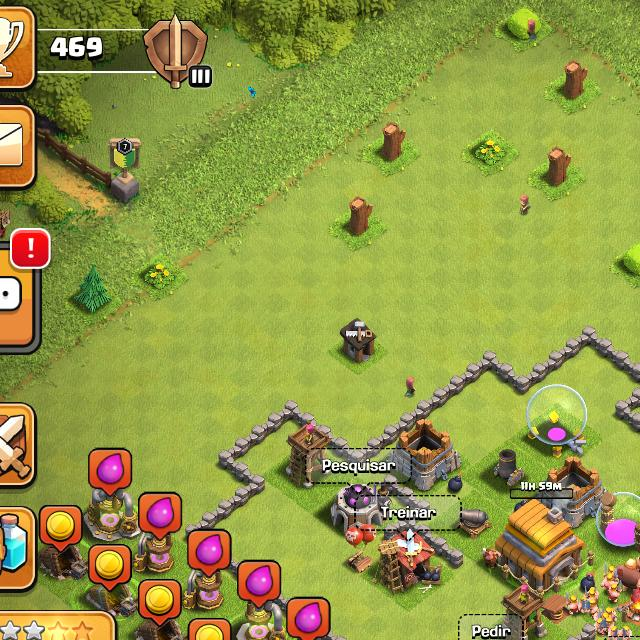Arqueira: (288, 423, 332, 490), (502, 583, 544, 640)
Canhao: (458, 505, 491, 540)
FullCoin: (38, 505, 84, 553), (138, 579, 182, 628), (88, 544, 132, 592), (188, 617, 232, 640)
FullElixir: (187, 529, 232, 578), (138, 492, 182, 542), (237, 560, 281, 609), (89, 448, 132, 497), (286, 597, 330, 640)
